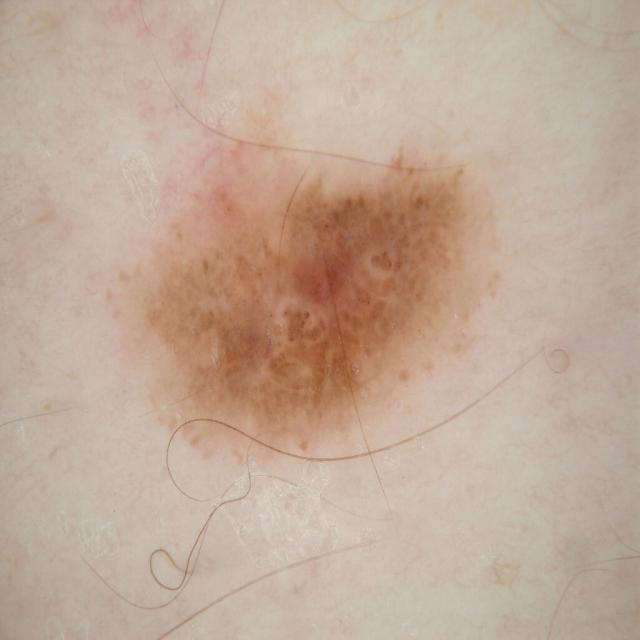Skin-Cancer Melanoma: (47, 52, 632, 536)
